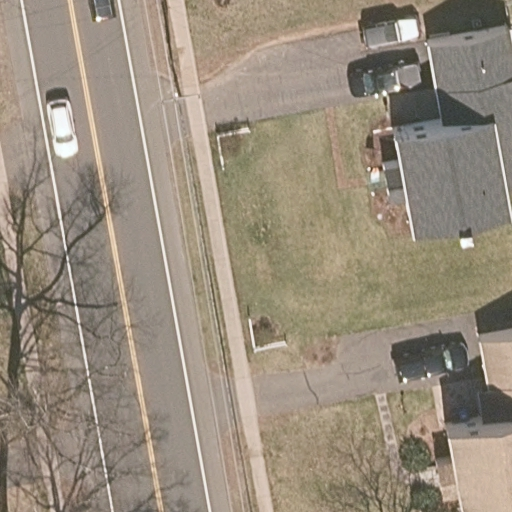DT: (161, 78, 199, 105)
